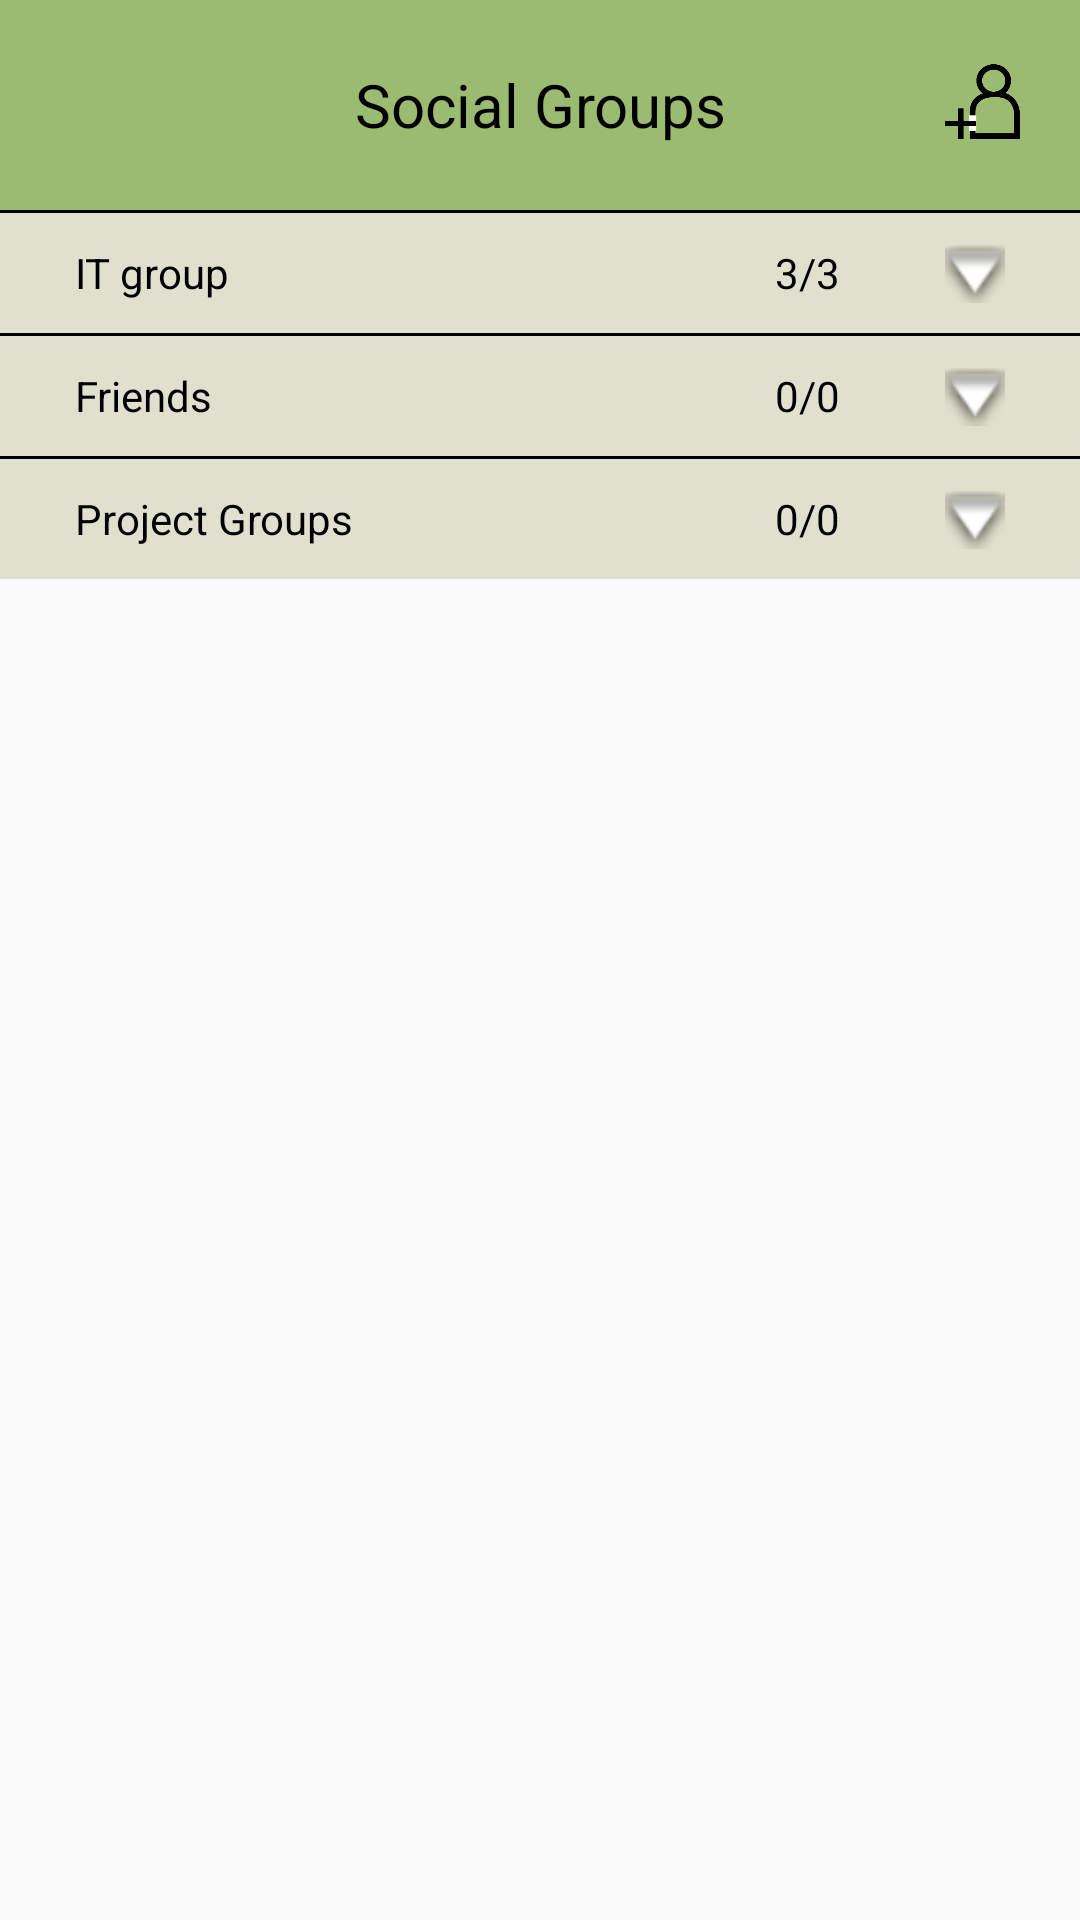

Icon click points for this 1080w x 1920h phone screenshot, format point (x, y):
arrow down float: point (975, 273), point (975, 396), point (975, 519)
